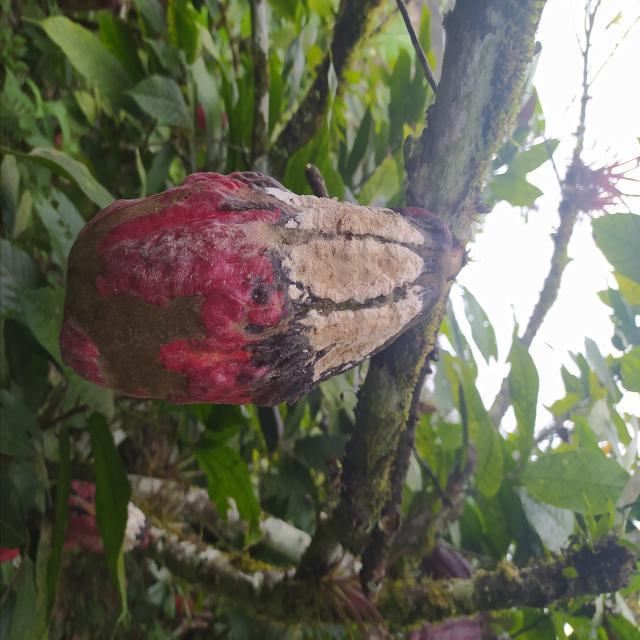Monilia: (59, 169, 451, 408)
